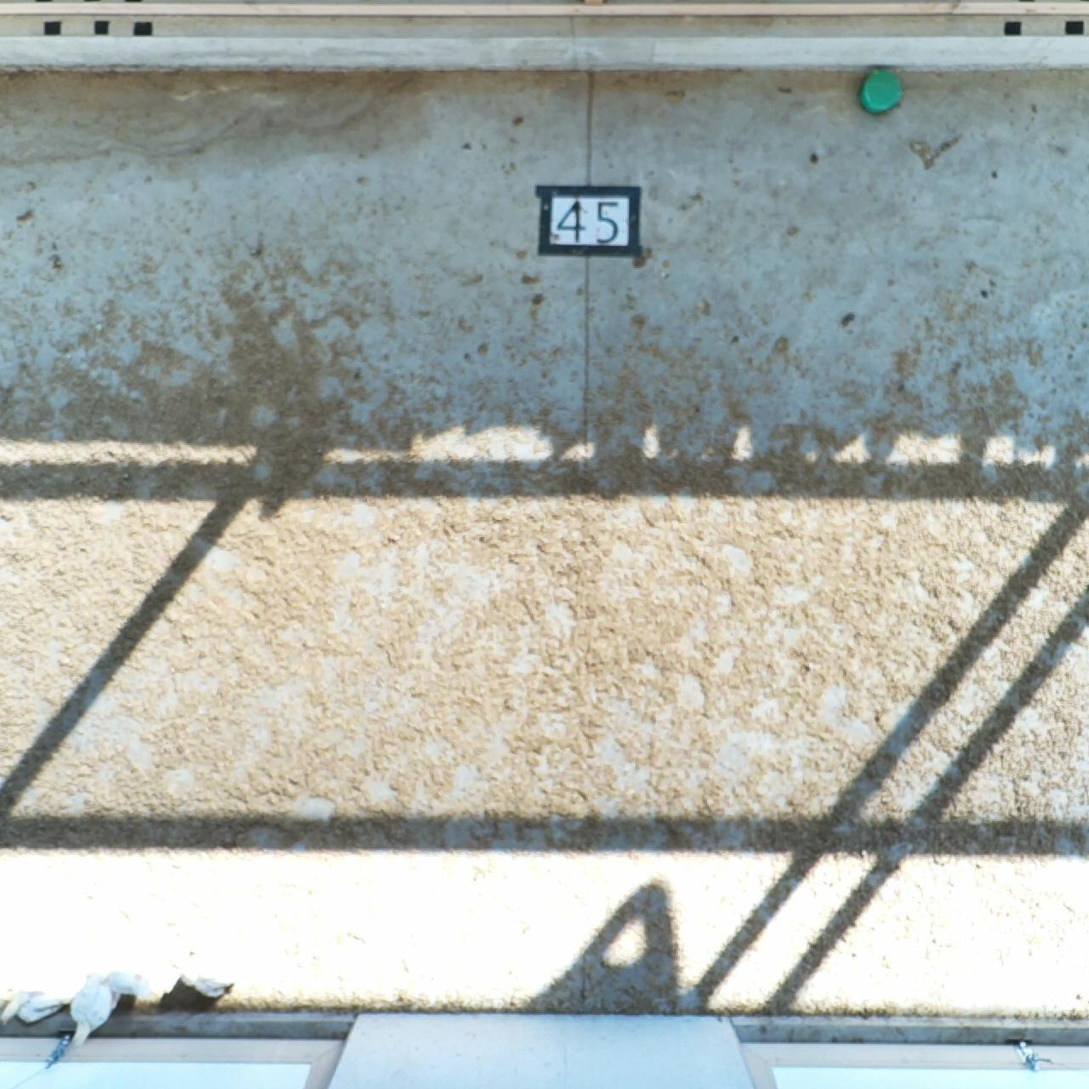chicken: (60, 972, 125, 1050), (1, 978, 74, 1024), (175, 962, 247, 1000), (95, 962, 165, 1001)
